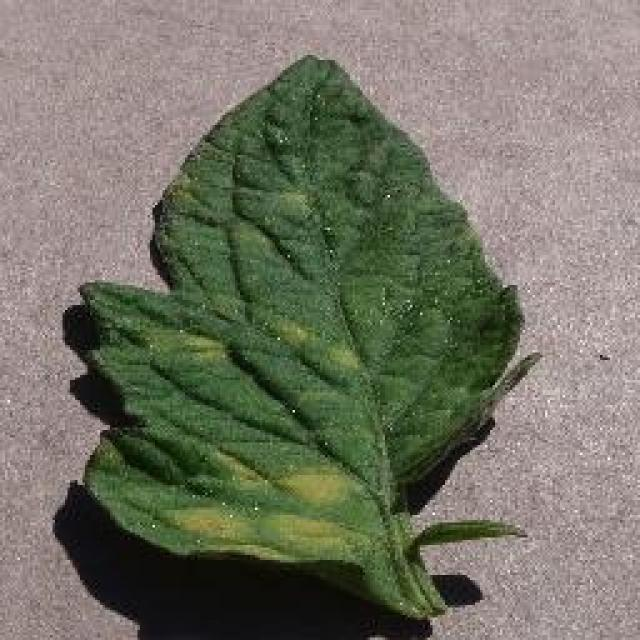Tomato mold leaf: (76, 49, 539, 599)
